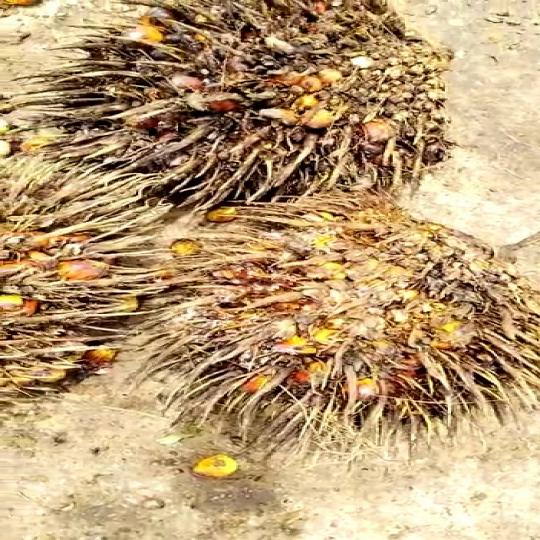terlalu masak: (35, 0, 464, 225), (126, 204, 540, 432)
